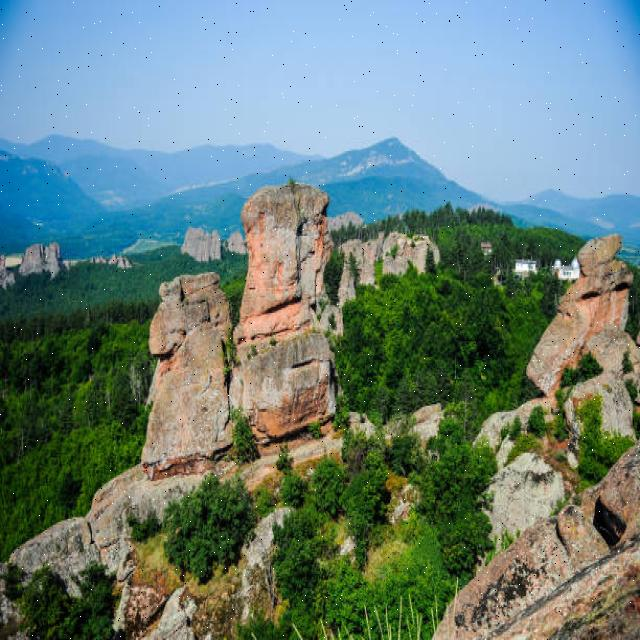Sedimentary: (234, 195, 350, 459), (527, 220, 640, 398), (150, 256, 229, 492)
